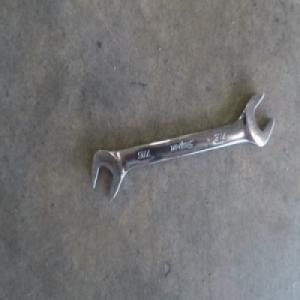Wrench: (92, 86, 276, 196)
